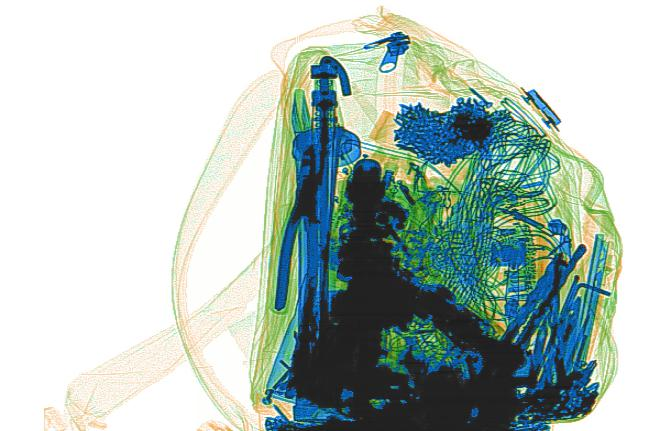knife: (569, 230, 612, 383)
